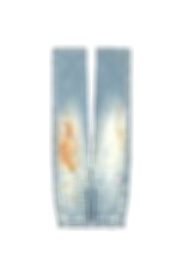earth: (58, 120, 77, 172)
